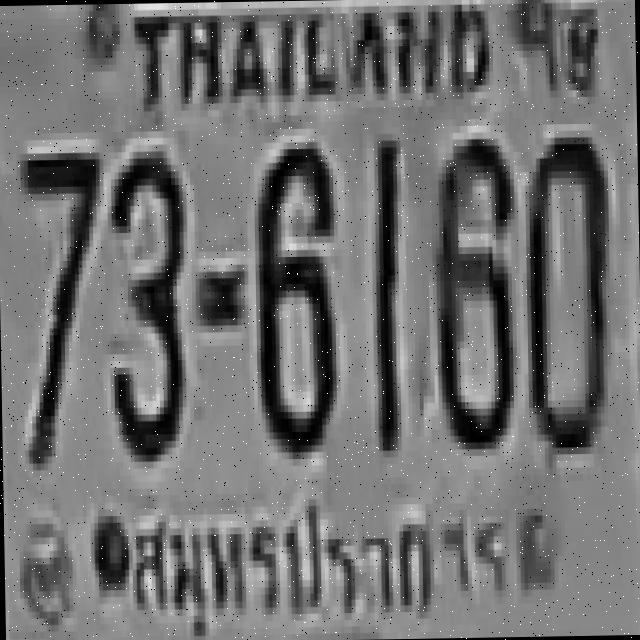0: (520, 130, 608, 448)
1: (369, 137, 402, 447)
3: (104, 144, 185, 455)
6: (252, 134, 334, 452), (430, 132, 514, 442)
7: (15, 146, 100, 464)
SamutPrakan: (122, 487, 512, 637)
